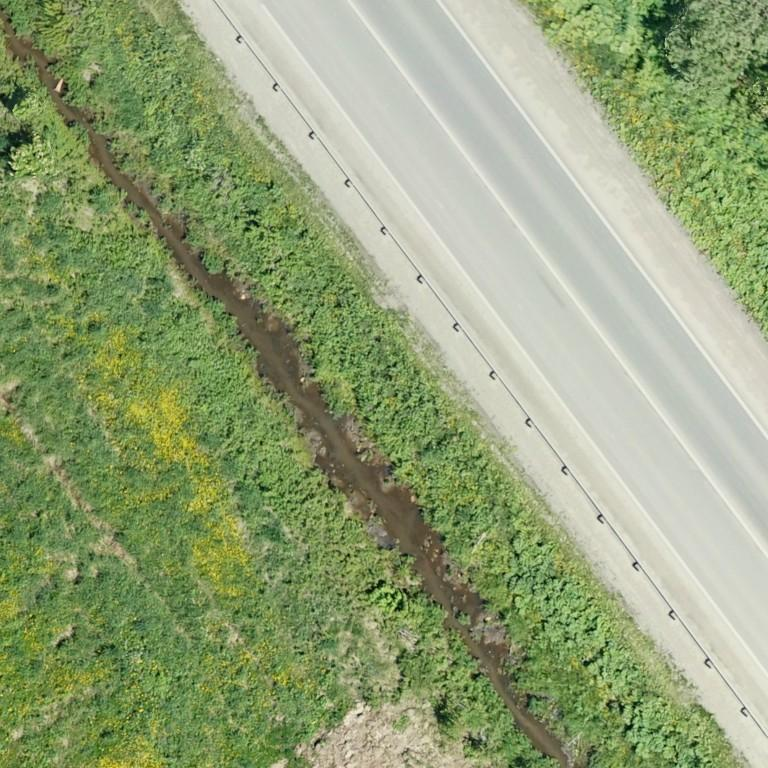hogweed: (212, 163, 514, 558), (505, 505, 717, 767), (588, 73, 767, 336), (145, 309, 329, 540), (128, 21, 192, 116), (369, 586, 448, 628)
